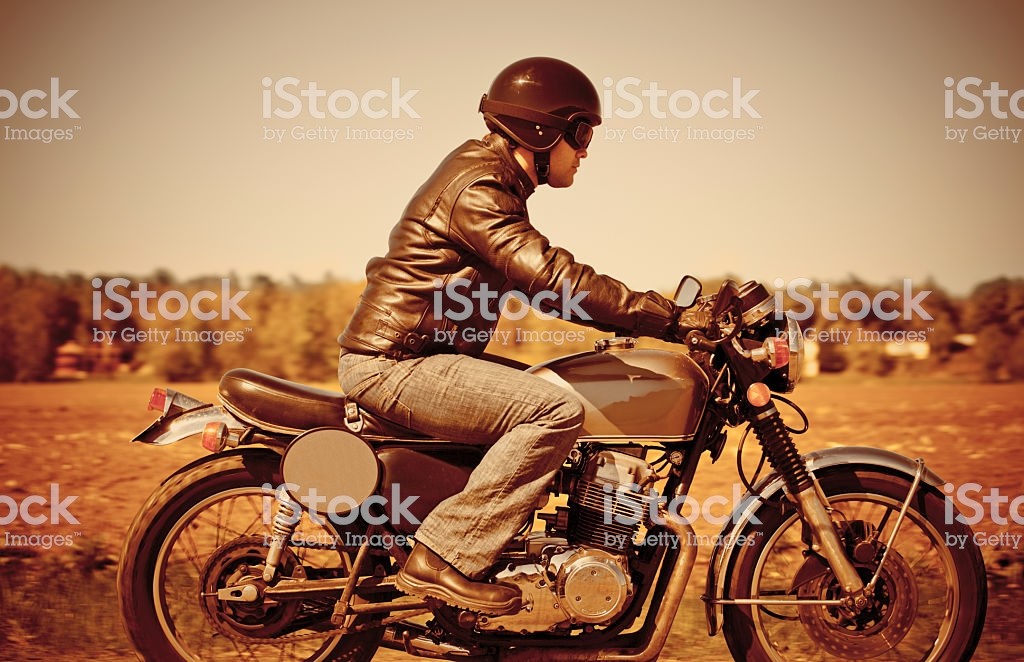helmet: (478, 43, 611, 156)
